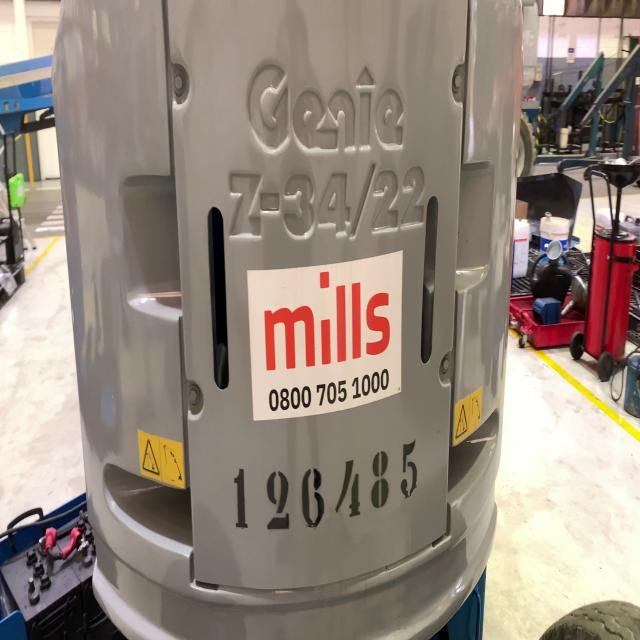Adesivos: (246, 248, 404, 425)
